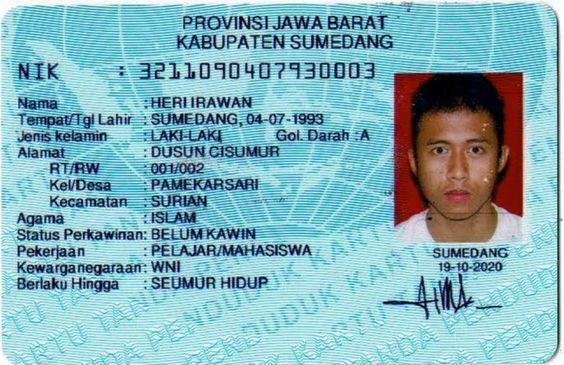ID-card: (2, 5, 552, 360)
